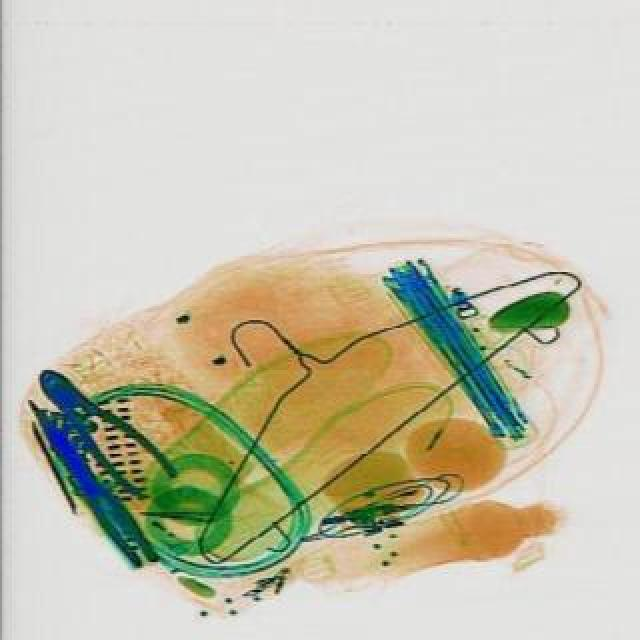wrench: (12, 392, 164, 576), (20, 352, 180, 504)
